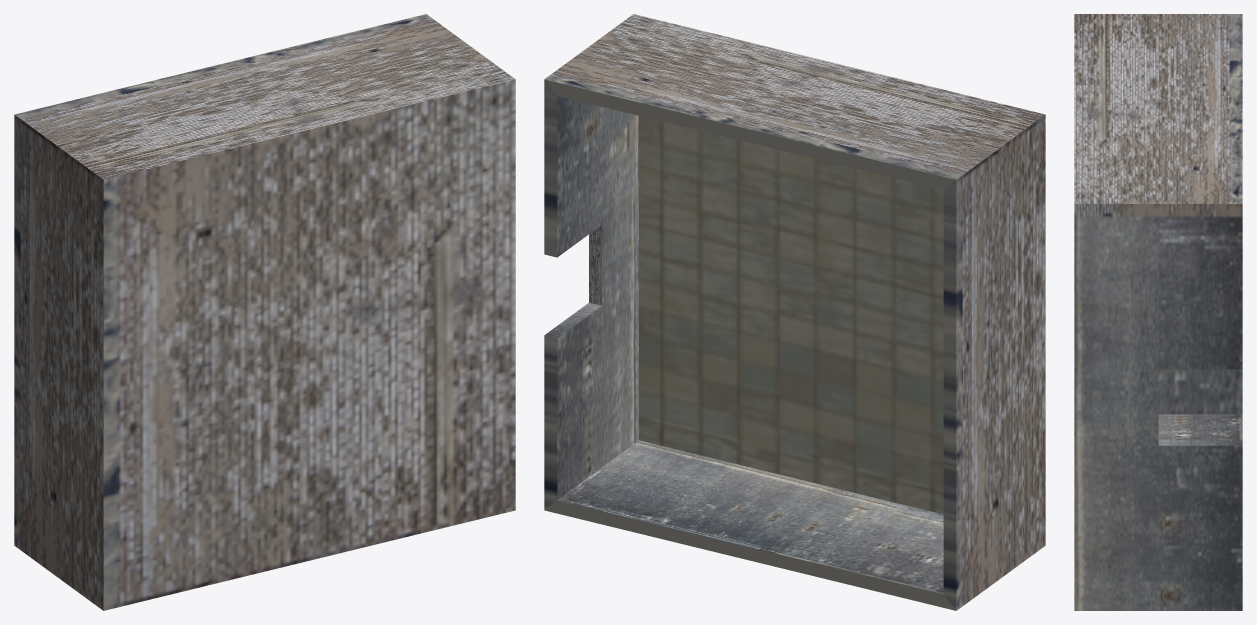
File: 8x8EastDoor_wtf.obj
3 renders of one model, left to right at view 1: azimuth 30°, elevation 25°; view 2: azimuth 150°, elevation 25°; view 3: azimuth 270°, elevation 25°, orthographic. The views are drawn at different scales.
Parts seen in each view (by area): view 1: group2; view 2: group2; view 3: group2.
Boxes of the visible parts, left/top/right/bottom form: group2: left=14, top=14, right=515, bottom=610; group2: left=544, top=14, right=1045, bottom=610; group2: left=1074, top=14, right=1242, bottom=610.
Size of the model in its own units: 660 by 660 by 248.
